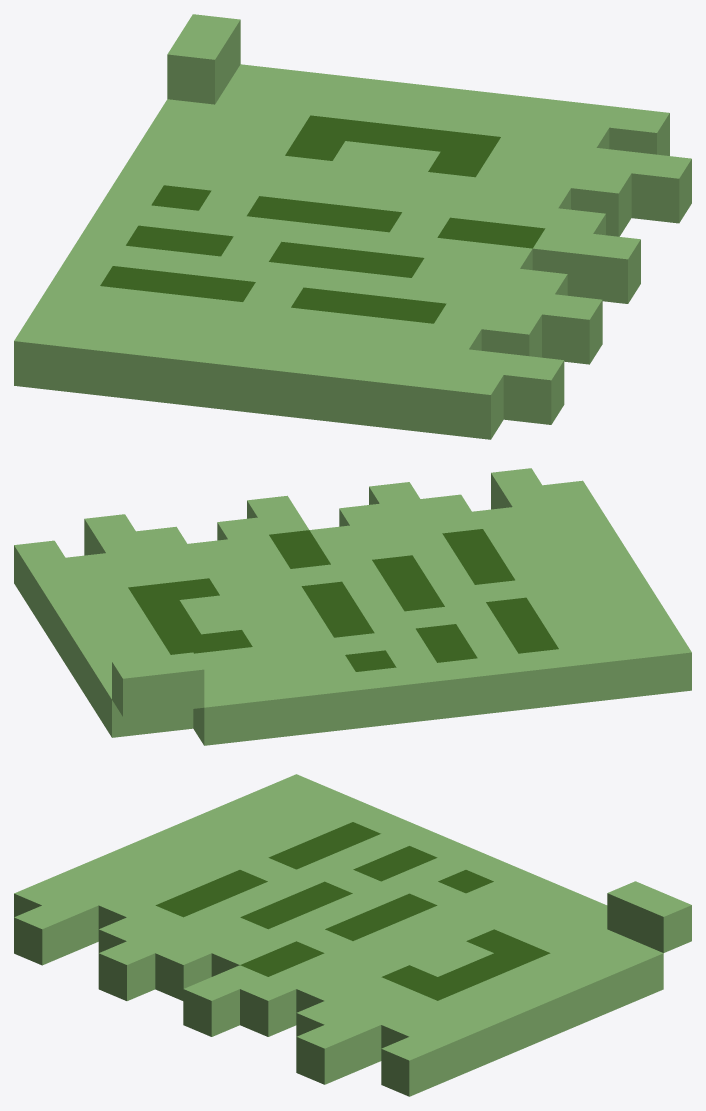
Rendered from item_ALCH_PAGE.glb.
3 renders of one model, top to bottom at view 1: azimuth 30°, elevation 25°; view 2: azimuth 150°, elevation 25°; view 3: azimuth 270°, elevation 25°, orthographic. The views are drawn at different scales.
Visible parts, largest first — view 1: item_ALCH_PAGE; view 2: item_ALCH_PAGE; view 3: item_ALCH_PAGE.
Part boxes in pixels (box(x1,y1,x2,y2)): item_ALCH_PAGE: box(14, 14, 691, 439); item_ALCH_PAGE: box(14, 468, 691, 745); item_ALCH_PAGE: box(14, 774, 691, 1096).
Bounding box in the file's own units: 0.3857 × 0.0455 × 0.3857.
Materials: 1 (1 with a texture image).
